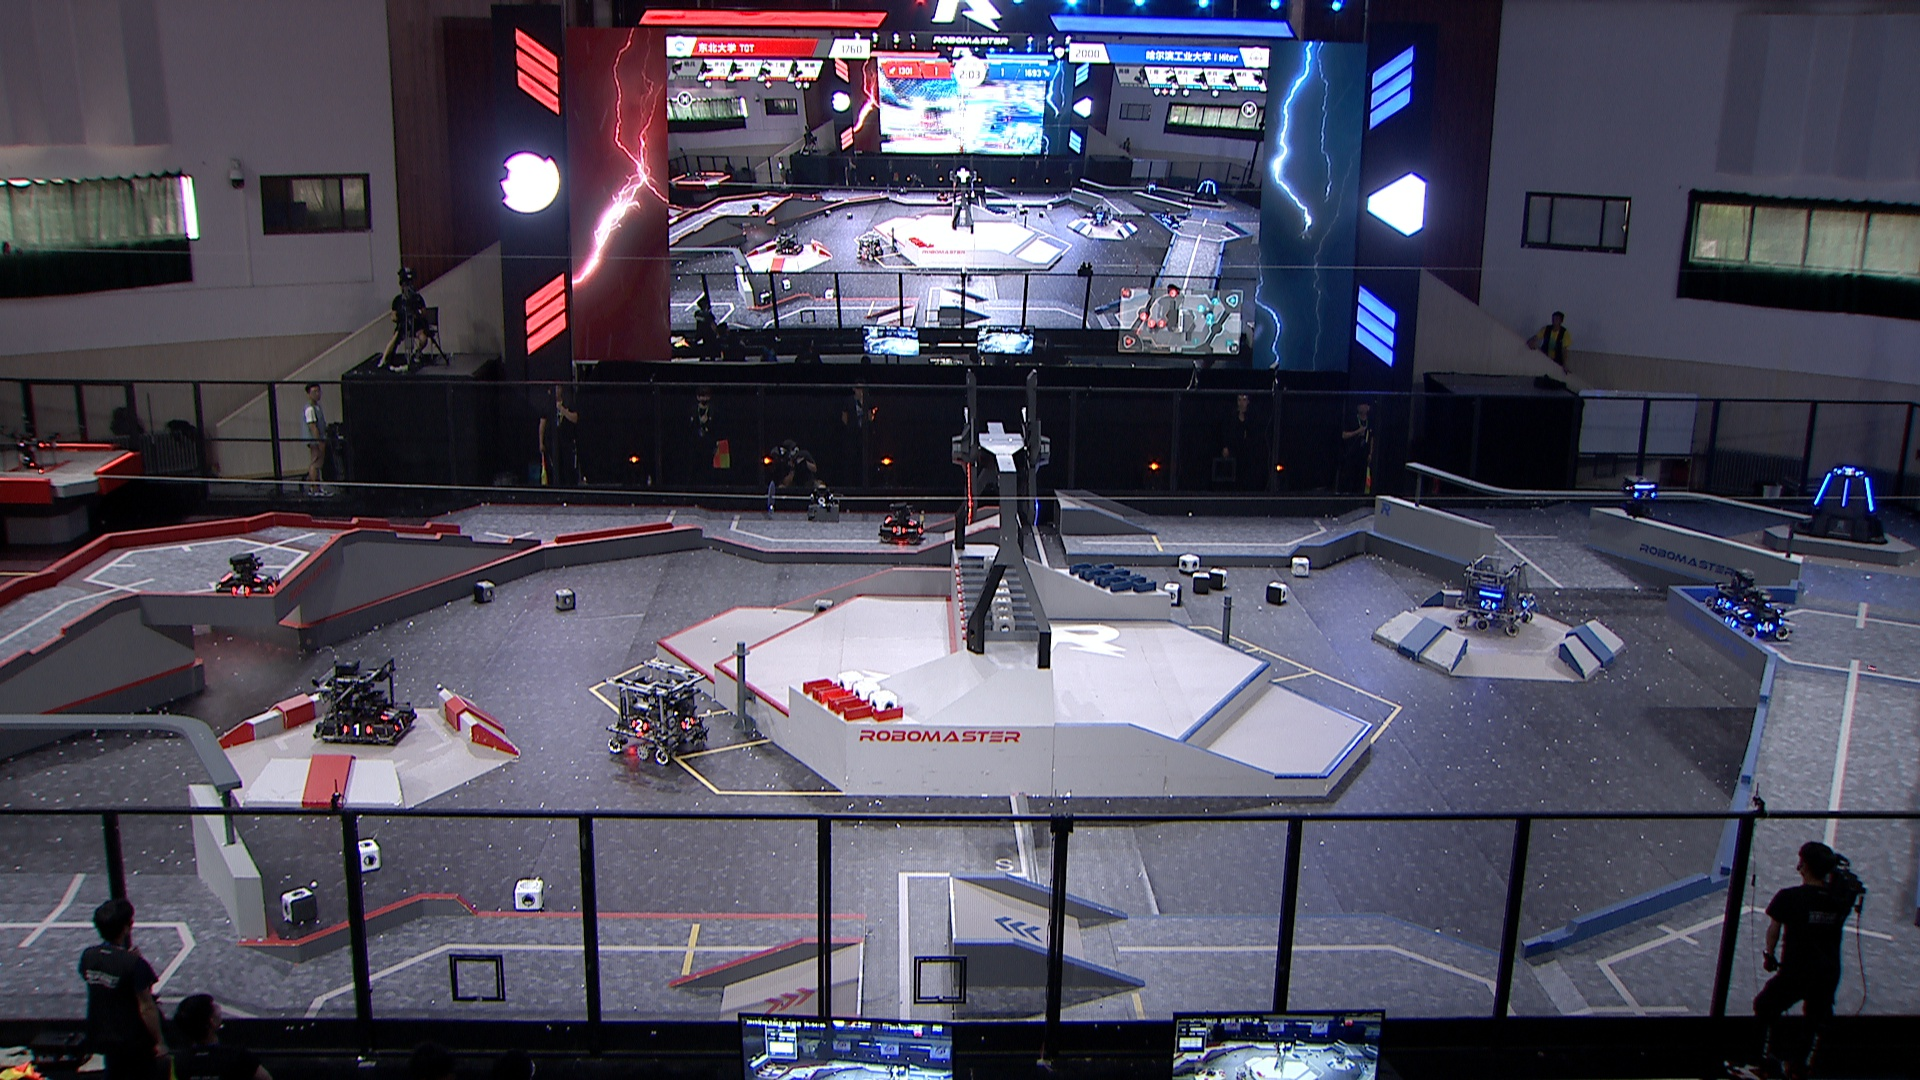armor: (1809, 471, 1836, 506), (1861, 475, 1878, 513), (339, 723, 372, 738), (375, 704, 404, 721), (1840, 475, 1854, 508), (390, 712, 410, 733), (1633, 487, 1660, 501), (1836, 465, 1863, 480), (247, 568, 272, 584), (229, 583, 255, 597), (679, 713, 698, 732), (626, 717, 647, 733), (1480, 597, 1498, 615), (889, 522, 910, 537), (262, 575, 278, 593), (1731, 605, 1753, 618), (1716, 595, 1733, 611), (1756, 618, 1775, 633), (901, 516, 920, 527), (1724, 613, 1741, 626), (1519, 593, 1532, 609)
base: (1793, 460, 1890, 549)
car: (605, 655, 713, 766), (310, 651, 419, 746), (1451, 553, 1536, 638), (211, 546, 285, 600), (1724, 584, 1793, 641), (1702, 564, 1766, 622), (876, 501, 931, 547)
ignore: (773, 225, 806, 256), (855, 233, 887, 262), (1191, 179, 1222, 204), (1087, 202, 1114, 229), (1158, 206, 1178, 225), (746, 200, 769, 218), (1145, 179, 1160, 196)
watcher: (1619, 467, 1662, 517)
